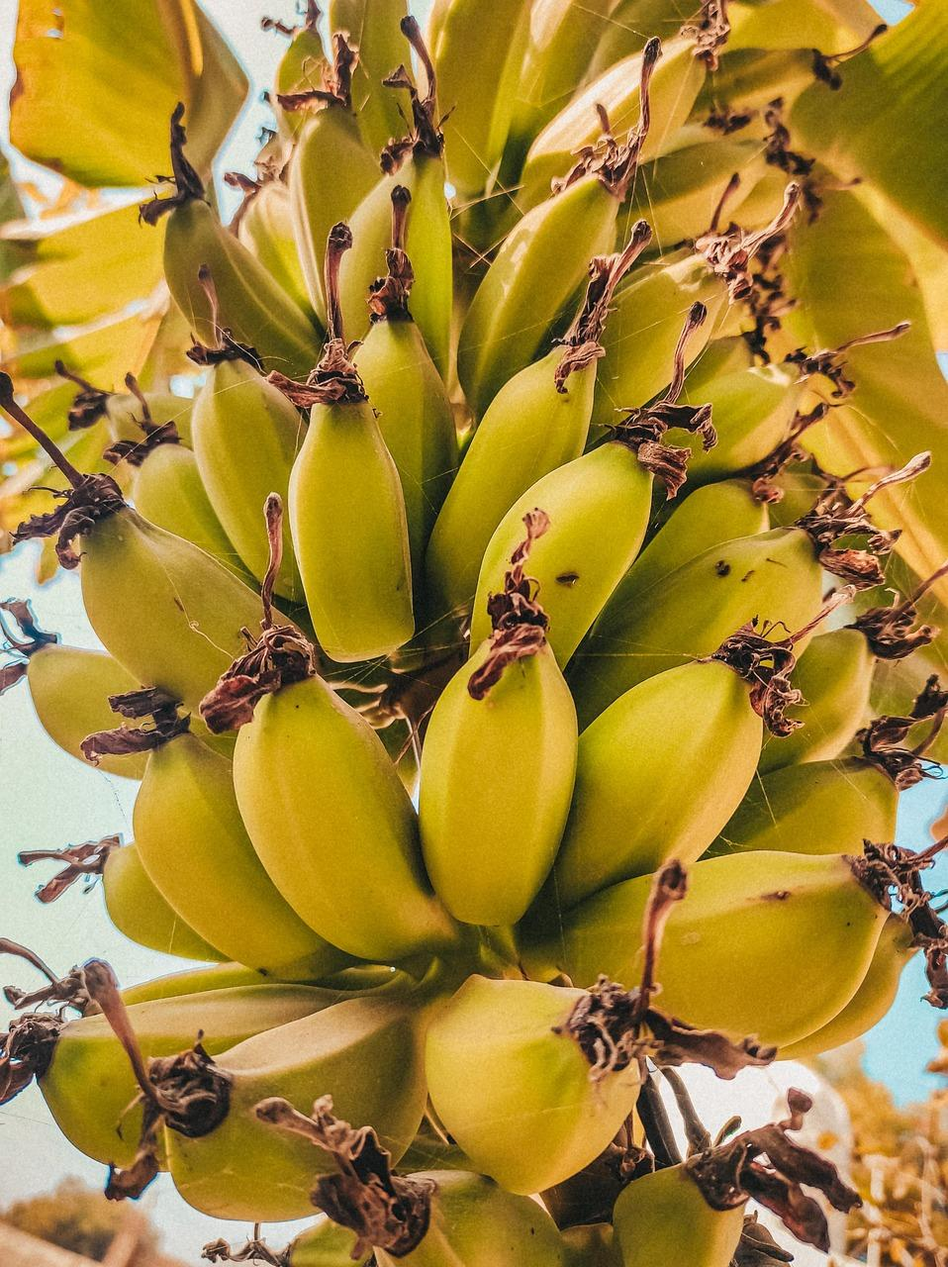banana: (52, 106, 948, 1223)
